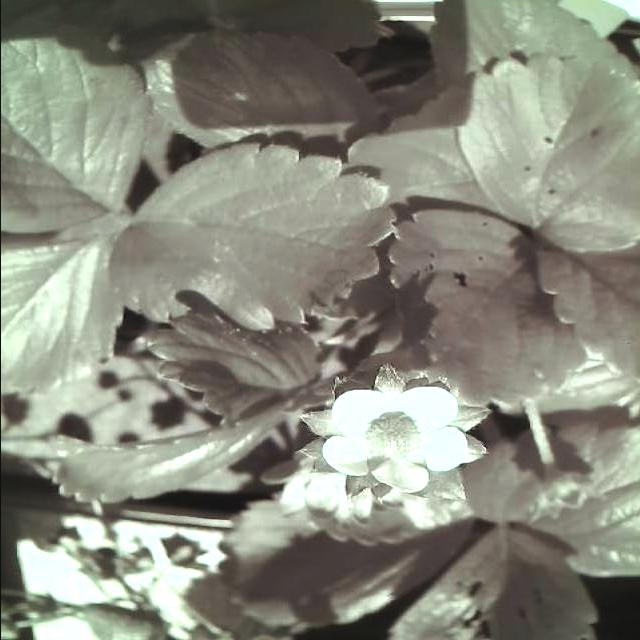flower: (318, 380, 478, 498)
